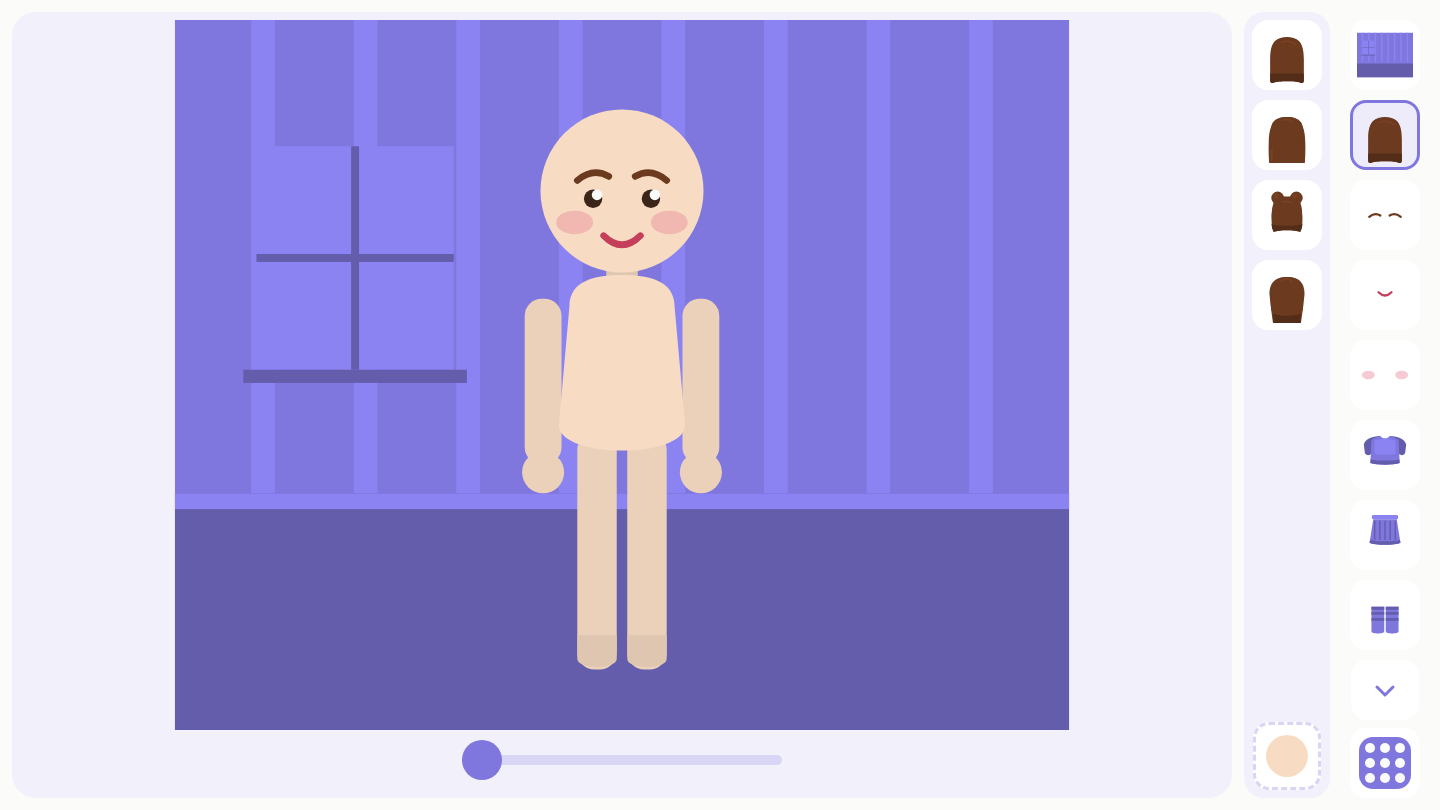
Test: the axes that shape it › takes the axes away again when she picks a drawn hairstyle
Step 1. Press the mouse on the button named "Fazer um cabelo do meu jeito" → (1287, 295), box x1=1252 y1=260 x2=1322 y2=330
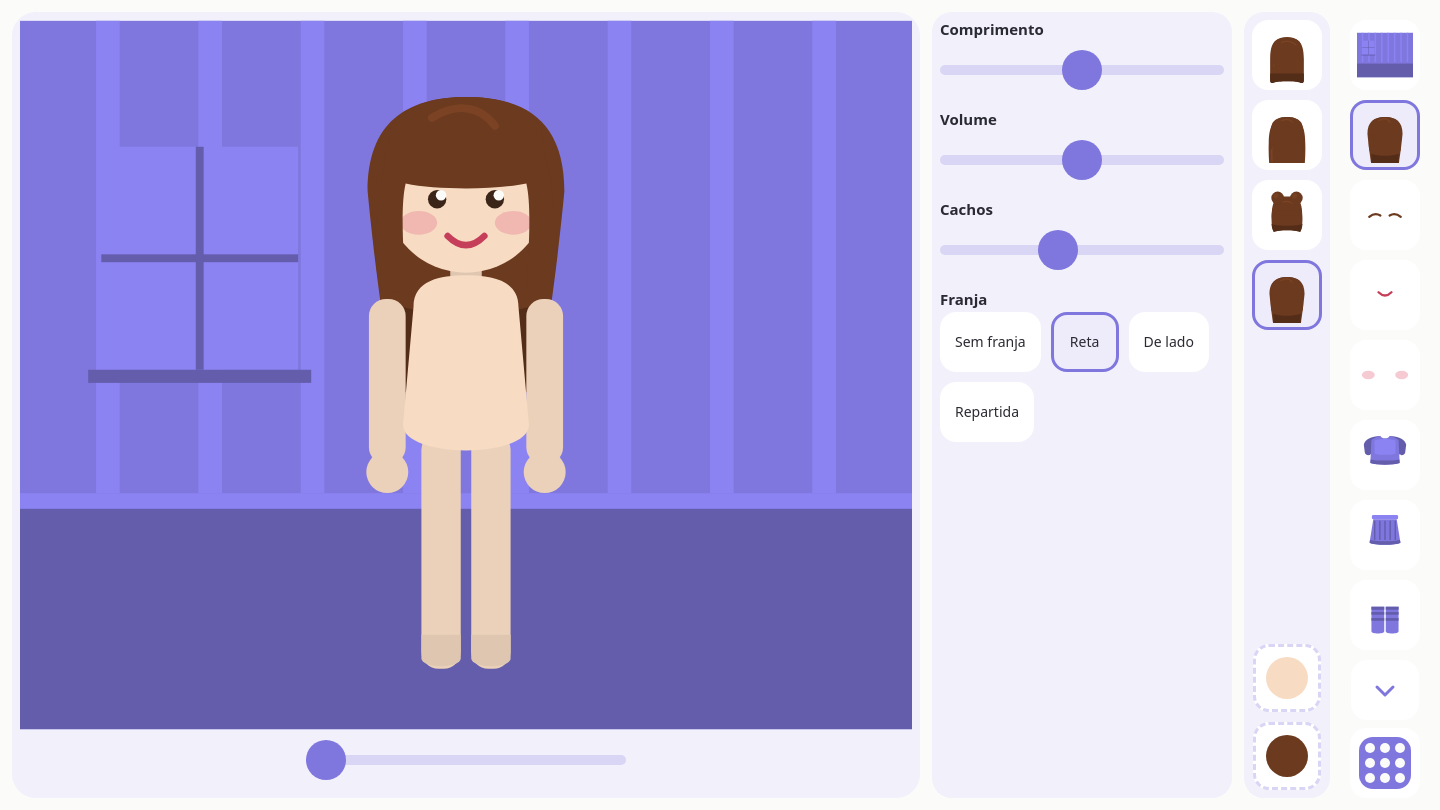
Expected: the slider labelled "Comprimento" is shown, x1=940 y1=40 x2=1224 y2=100
Step 2. Press the mouse on the 1st button named "Vestir esta peça de Cabelo" → (1287, 55), box x1=1252 y1=20 x2=1322 y2=90
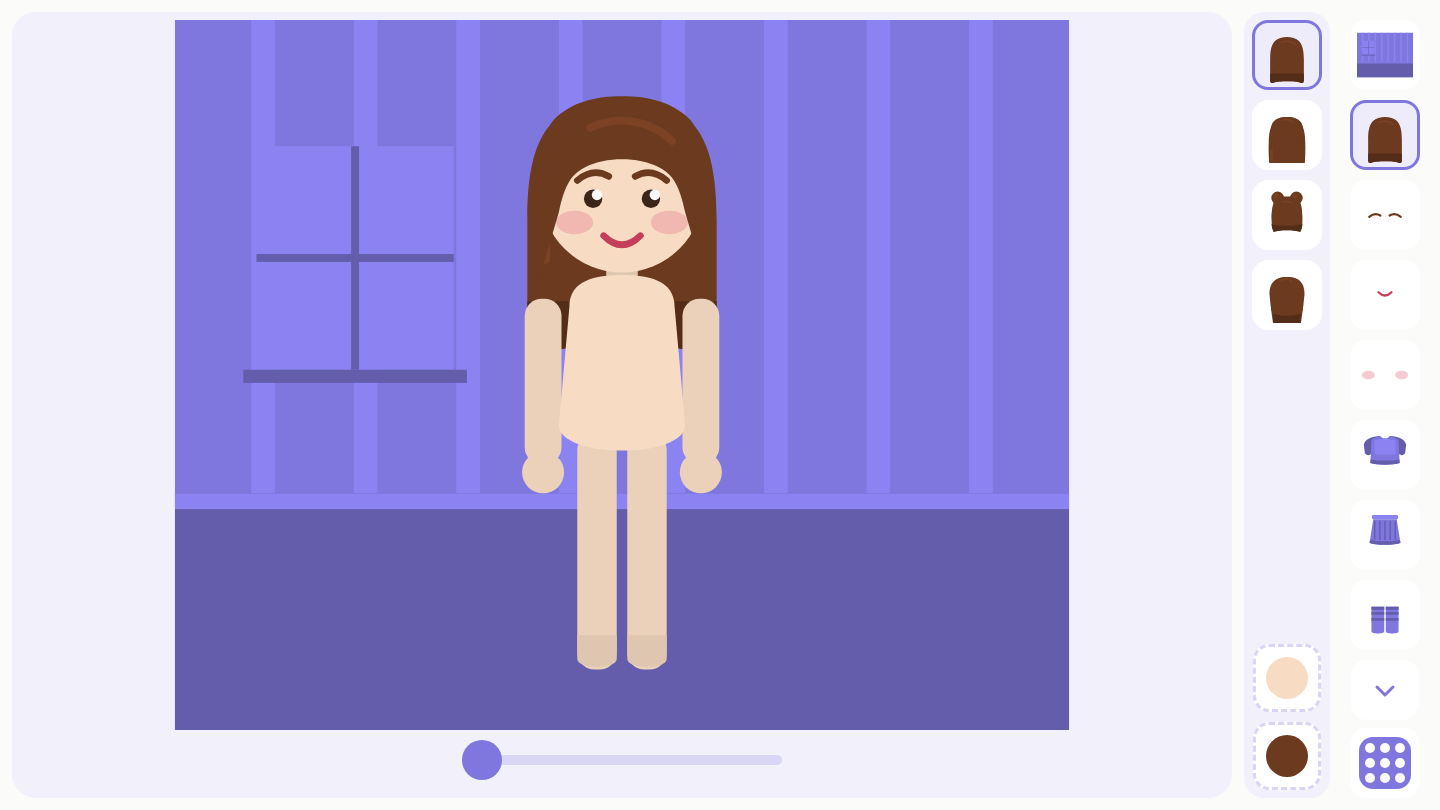
Expected: the label labelled "Comprimento" is gone
